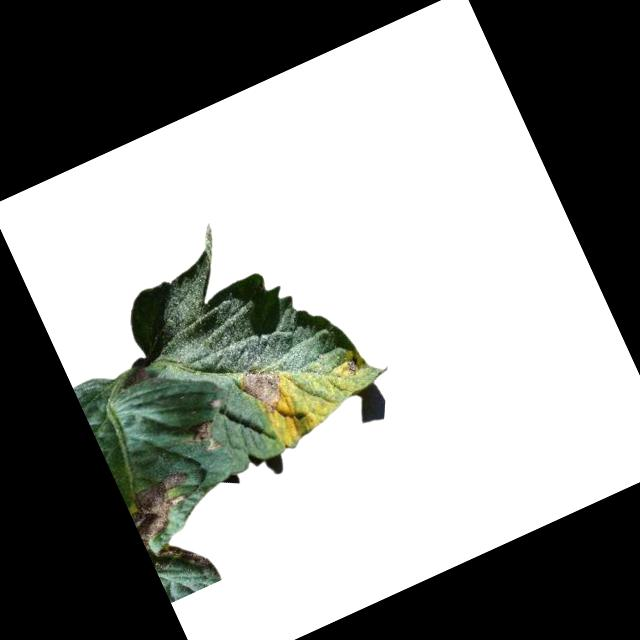Early_blight: (121, 466, 227, 589), (233, 356, 298, 427), (183, 413, 224, 459), (340, 354, 367, 381)
